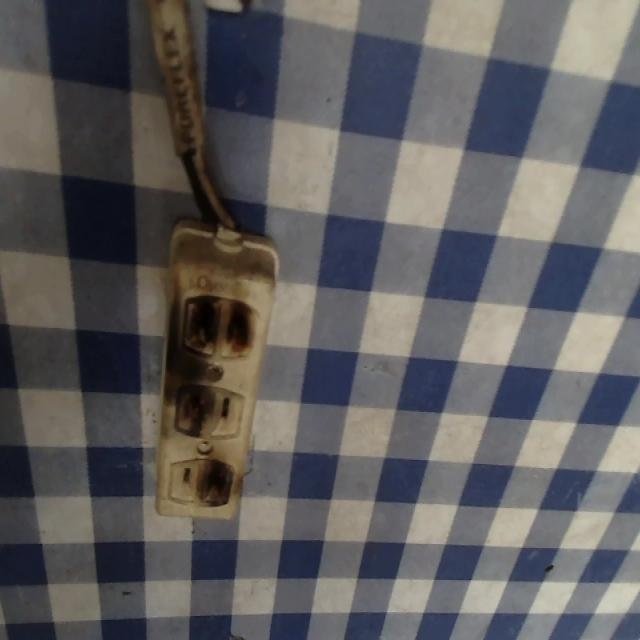-: (180, 292, 254, 360), (170, 382, 214, 434), (198, 460, 233, 508)
